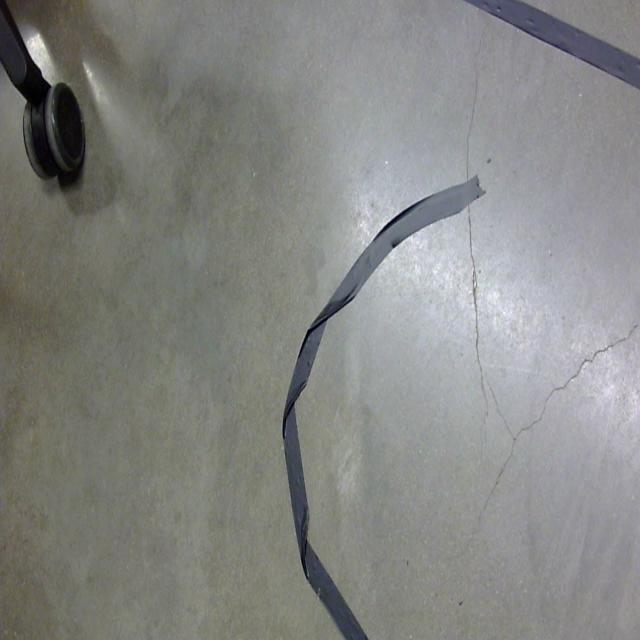tape: (272, 150, 509, 640), (437, 0, 640, 128)
